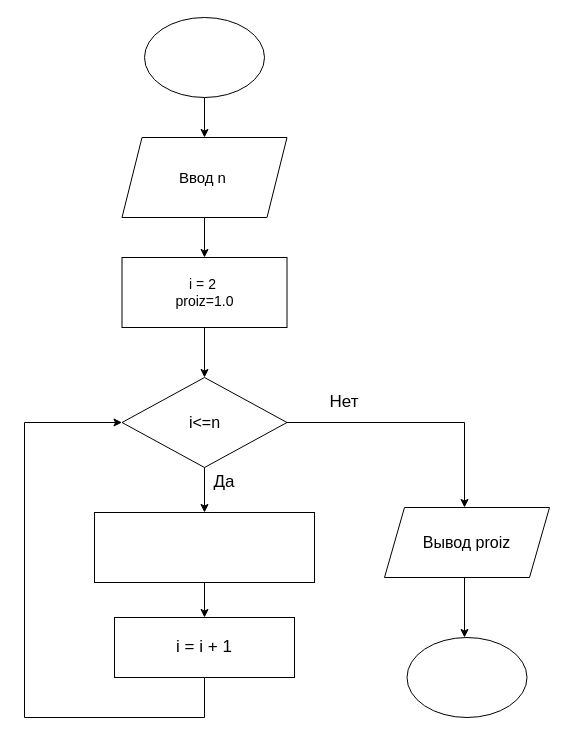
This 567x743 diagram has some shape labels left out. The centre of each missing label's shape, as x and y in pixels:
proiz = proiz * (1.0 - 1.0 / (i * i)): the point at 204,547
Конец: the point at 466,677
Начало: the point at 204,57
